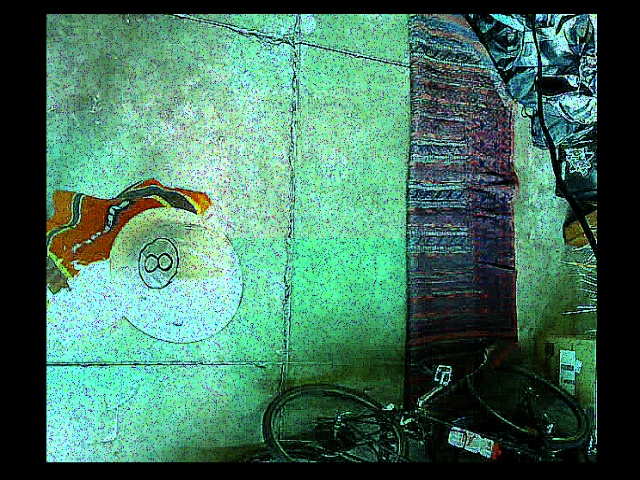eight: (139, 236, 179, 290)
